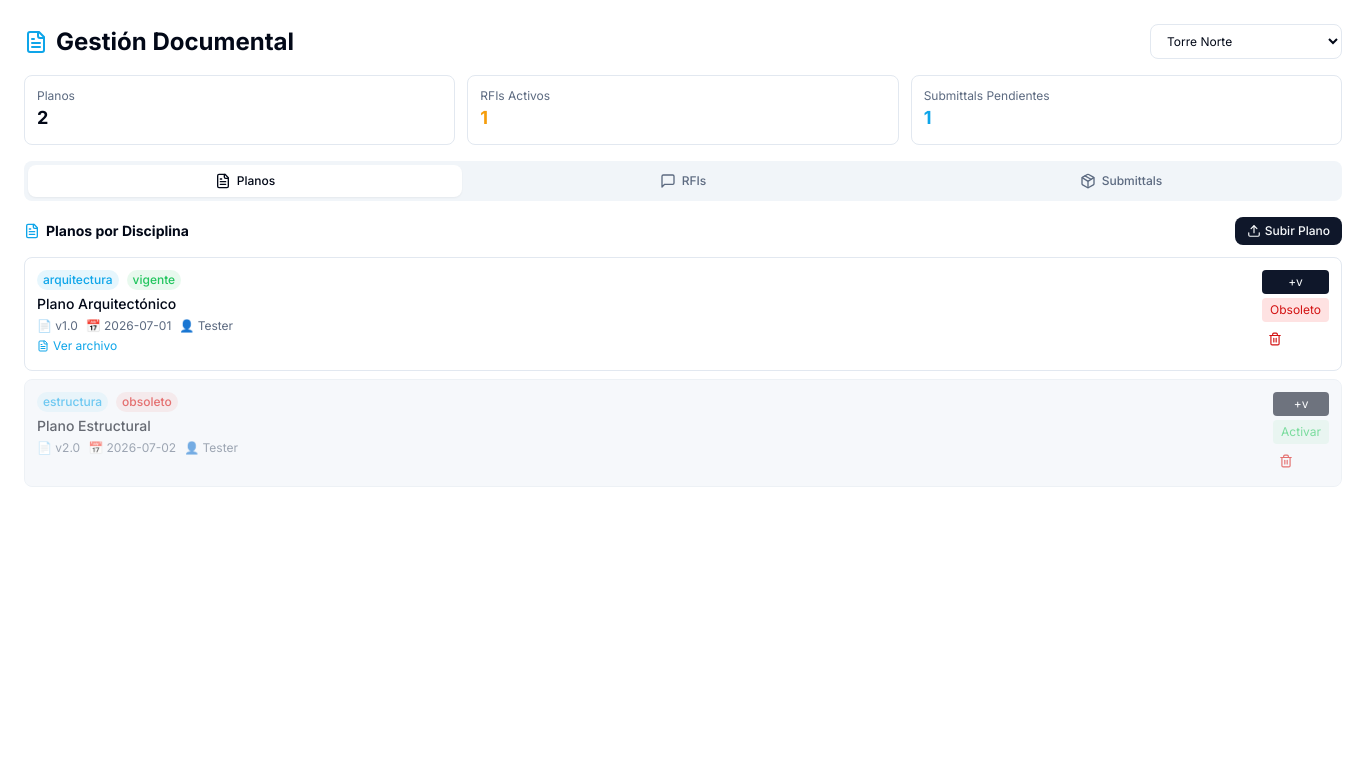
Test: GestionDocumental Screen › Formulario de carga de documentos › abre el formulario para subir un plano
This screenshot has width=1366, height=768.
Click the button "Subir Plano" at coordinates (1288, 231), box [1235,217,1342,245]
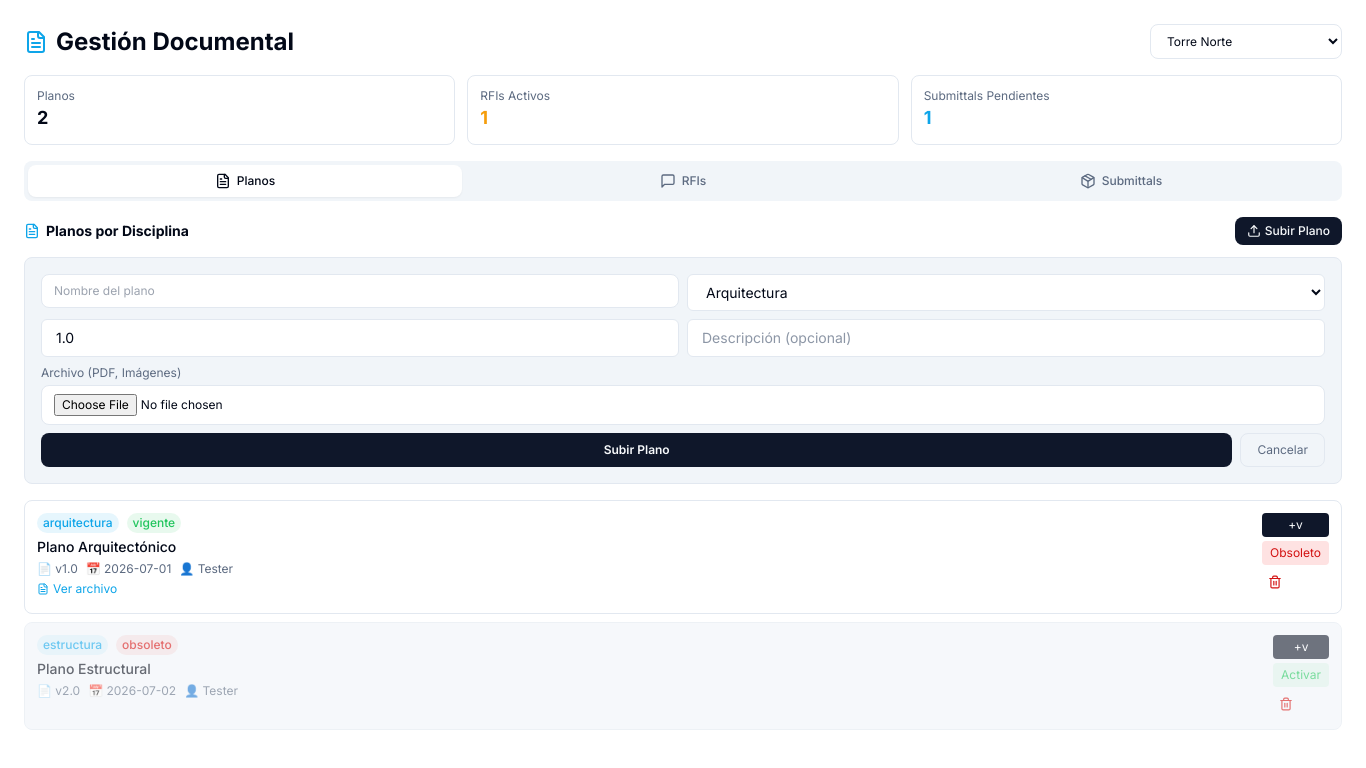
Expected: the field with placeholder "Nombre del plano" is shown, [41,274,679,308]
